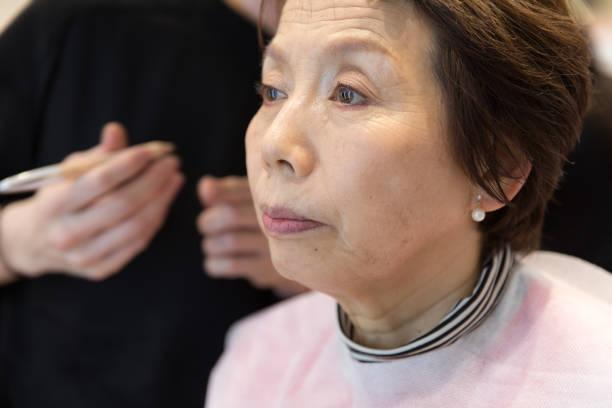Dry-Skin: (382, 78, 455, 247)
